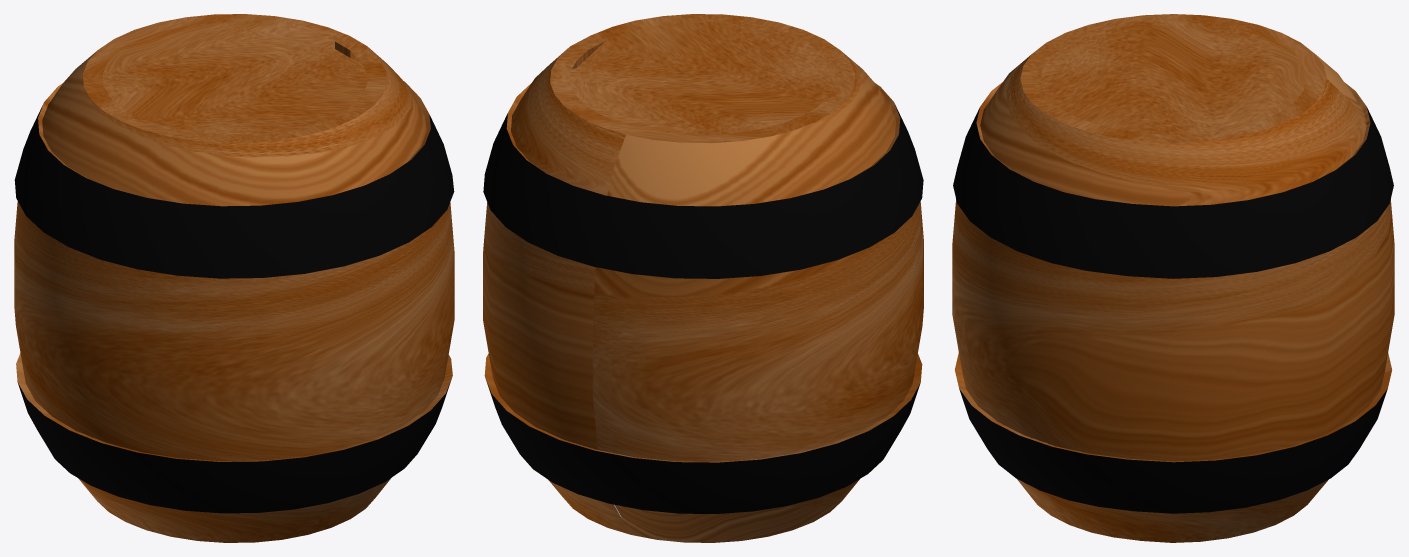
Rendered from barrel5.fbx.
3 renders of one model, left to right at view 1: azimuth 30°, elevation 25°; view 2: azimuth 150°, elevation 25°; view 3: azimuth 270°, elevation 25°, orthographic.
Parts seen in each view (by area): view 1: Cylinder.001; view 2: Cylinder.001; view 3: Cylinder.001.
Boxes of the visible parts, box(x1,y1,x2,y2) form: Cylinder.001: box(14, 14, 454, 542); Cylinder.001: box(483, 14, 923, 542); Cylinder.001: box(952, 14, 1394, 542).
Bounding box in the file's own units: 211 × 212 × 211.
